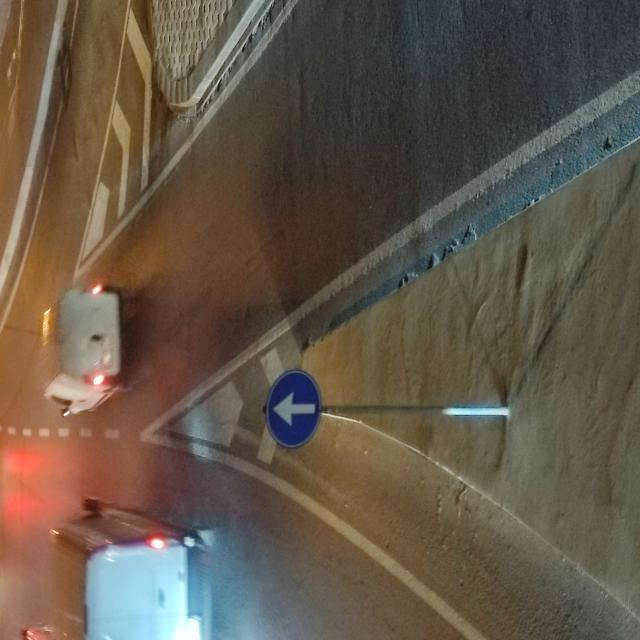Turn Left: (263, 373, 324, 450)
